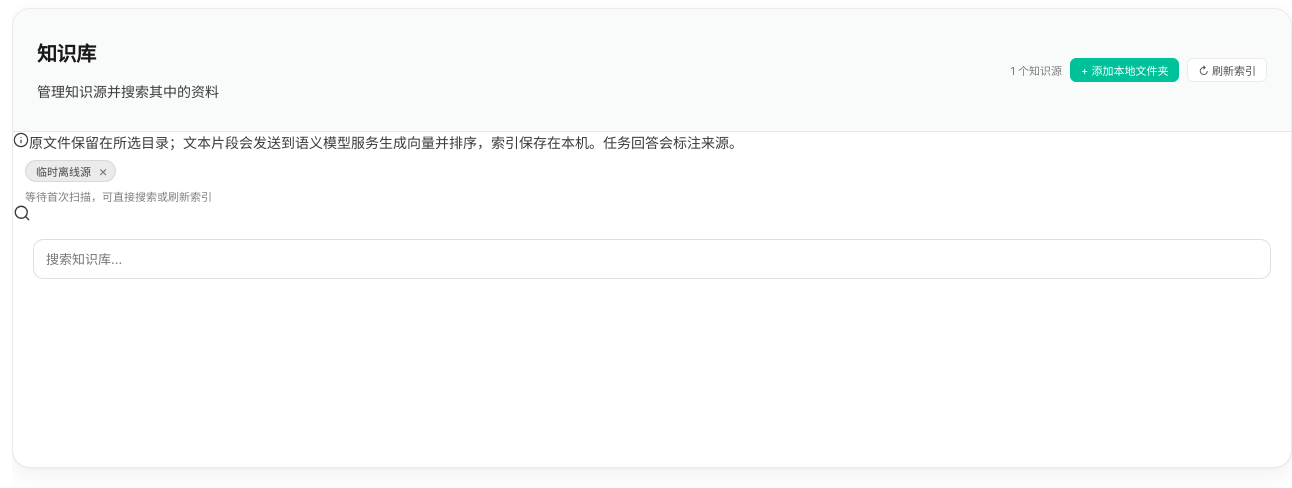
Test: KnowledgeBasePanel › 全部 provider 失败时显示可重试错误，重试成功后恢复结果
Type "文档" into the field labelled "搜索知识库" at (652, 259), box left=33, top=239, right=1271, bottom=279
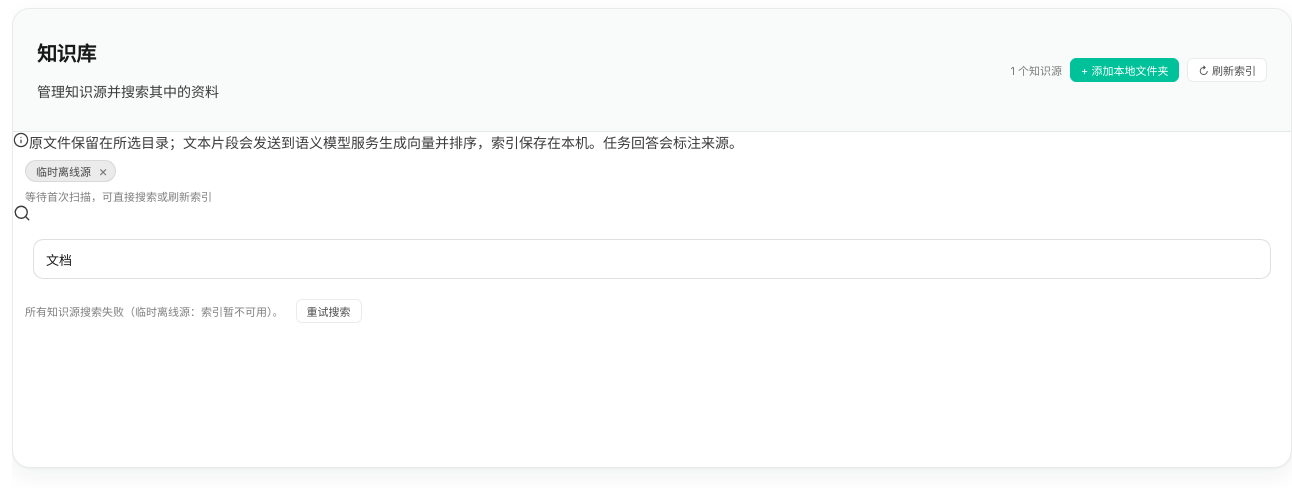
Check: the message shows "所有知识源搜索失败", box left=25, top=305, right=284, bottom=319
Click the button "重试搜索" at (328, 311), box left=296, top=299, right=362, bottom=323
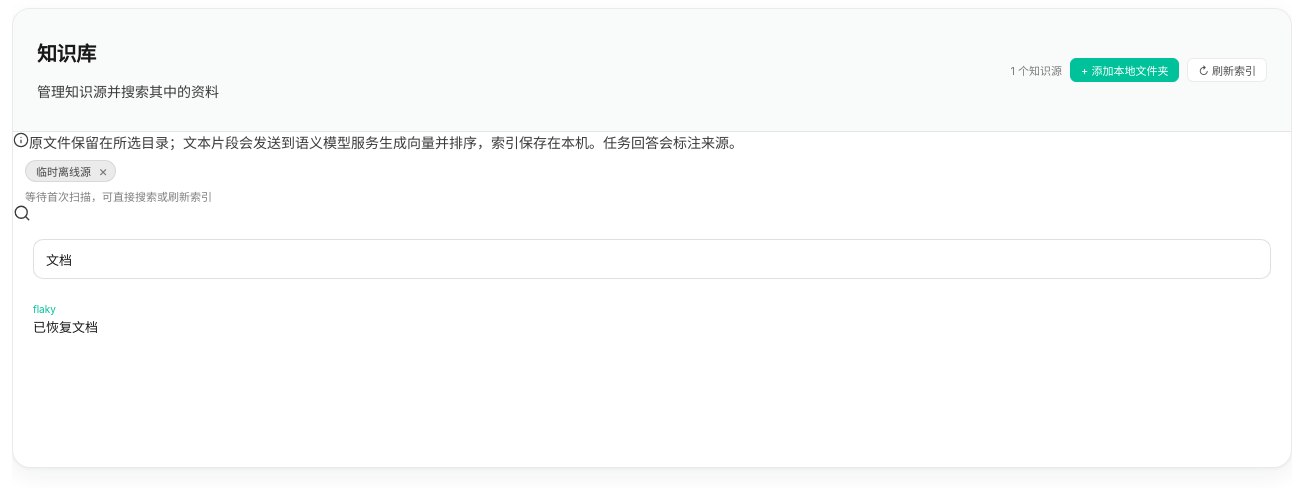
Check: the button with aria-label "打开知识条目：已恢复文档" is shown, box left=21, top=293, right=1283, bottom=346
Check: the message "所有知识源搜索失败（临时离线源：索引暂不可用）。 重试搜索" is gone
